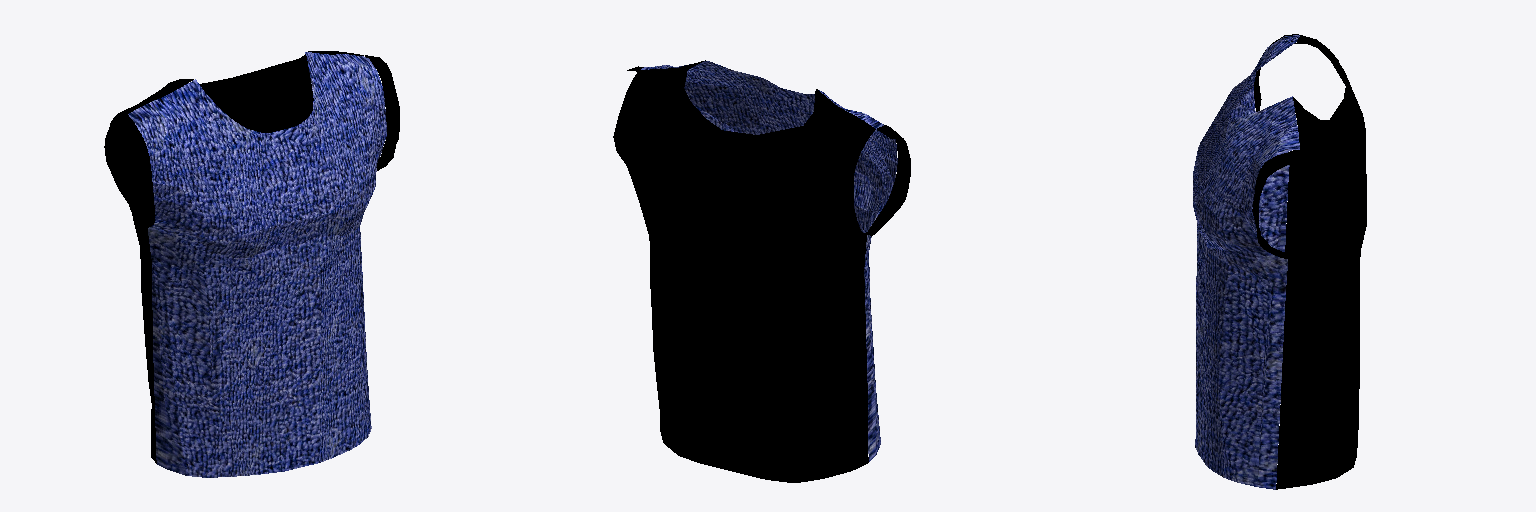
3 renders of one model, left to right at view 1: azimuth 30°, elevation 25°; view 2: azimuth 150°, elevation 25°; view 3: azimuth 270°, elevation 25°, orthographic.
Visible parts, largest first — view 1: T_shirt; view 2: T_shirt; view 3: T_shirt.
Part boxes in pixels (bbox=[...]): T_shirt: bbox=[104, 51, 399, 477]; T_shirt: bbox=[613, 60, 910, 482]; T_shirt: bbox=[1193, 34, 1366, 489].
Bounding box in the file's own units: 0.2935 × 0.3892 × 0.1639.
2 materials, 1 textured.